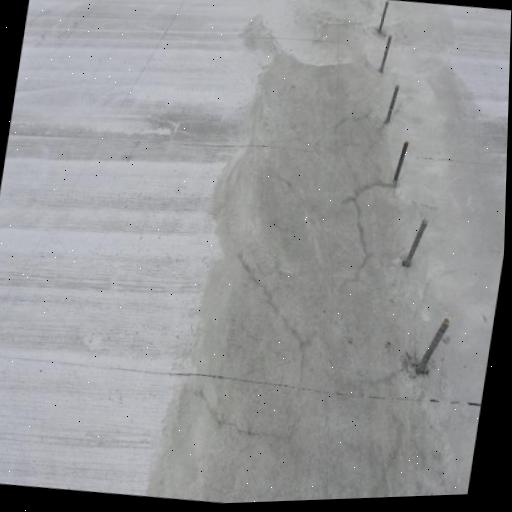exposed_rebar: (416, 319, 449, 375), (402, 219, 428, 267), (393, 141, 408, 184), (385, 85, 399, 124), (380, 34, 391, 72), (379, 2, 388, 32)
